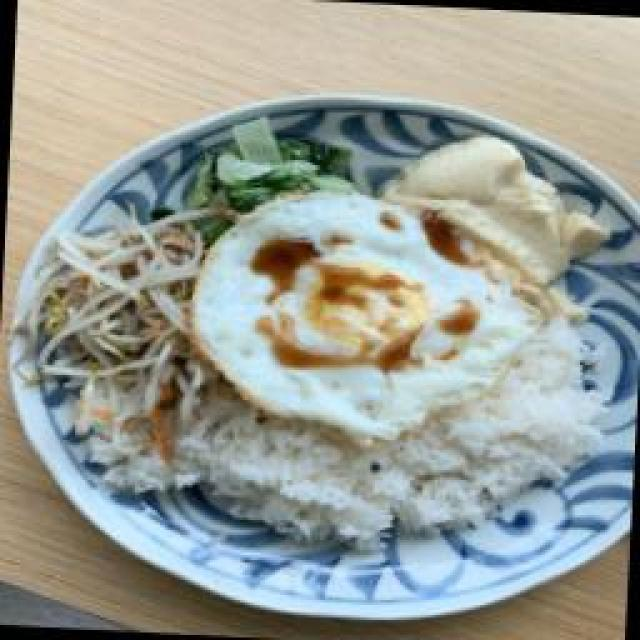fried_eggs: (215, 205, 500, 420)
mung_bean_sprouts: (50, 223, 198, 403)
rice: (200, 403, 543, 526)
